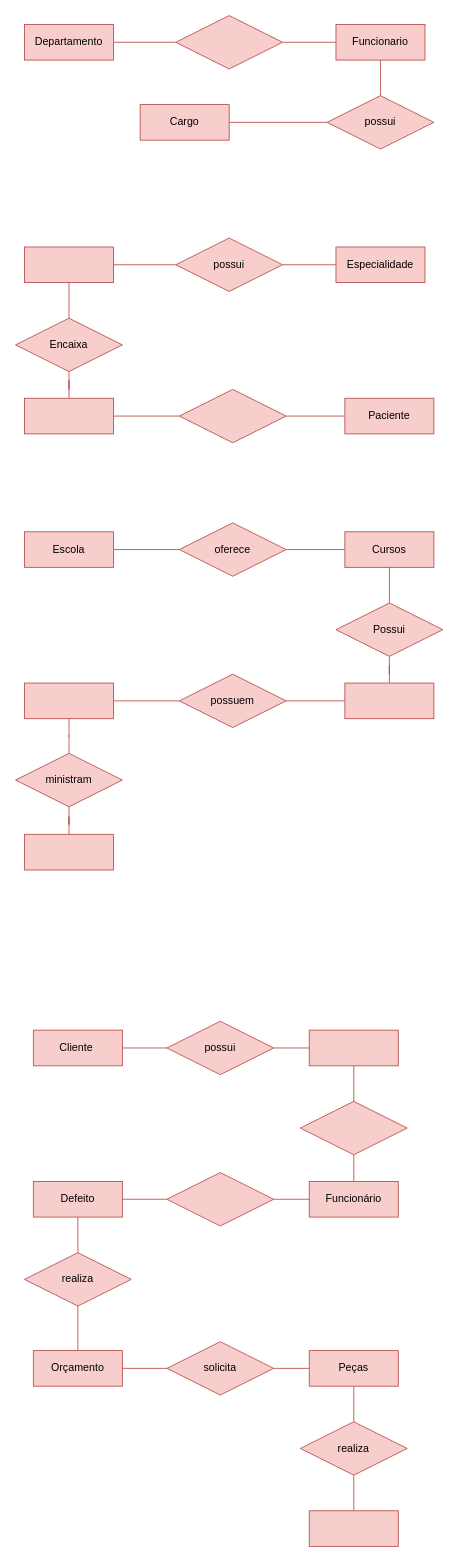
This 458x1562 diagram has some shape labels left out. The centre of each missing label's shape, as x and y in pixels:
"Agenda" goes at (68,415).
"alocado" goes at (229,42).
"Atende" goes at (232,415).
"Aulas" goes at (68,851).
"aval" goes at (220,1199).
"Diciplinas" goes at (389,700).
"Equipamento" goes at (353,1047).
"leva" goes at (353,1127).
"Medico" goes at (68,264).
"Professores" goes at (68,700).
"Seviço" goes at (353,1528).
